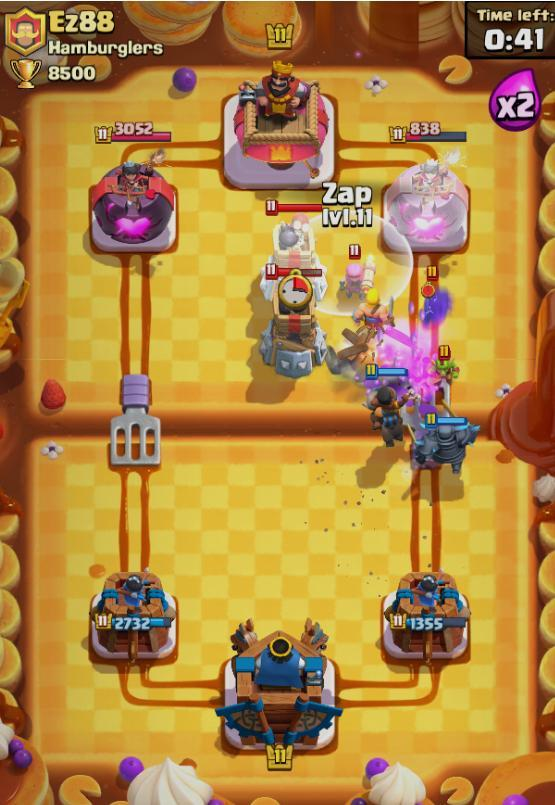EBombertower: (260, 269, 328, 378), (260, 215, 326, 302)
EFirecrack: (339, 245, 374, 307)
EGoblin: (431, 346, 459, 386)
EKingTower: (224, 61, 333, 189)
EnemyPrincessTower: (89, 149, 177, 254), (383, 152, 469, 253)
OBarb: (354, 288, 394, 336)
OBigPekka: (410, 407, 479, 474)
ORamrider: (365, 364, 414, 446)
OwnKingTower: (216, 620, 341, 750)
OwnPrincessTower: (89, 570, 175, 662), (383, 572, 469, 662)
